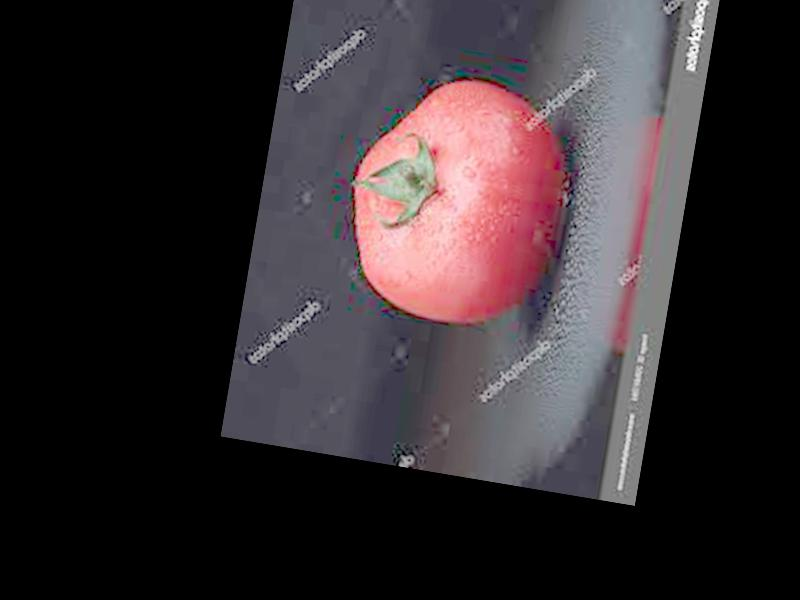Tomato: (332, 63, 581, 339)
